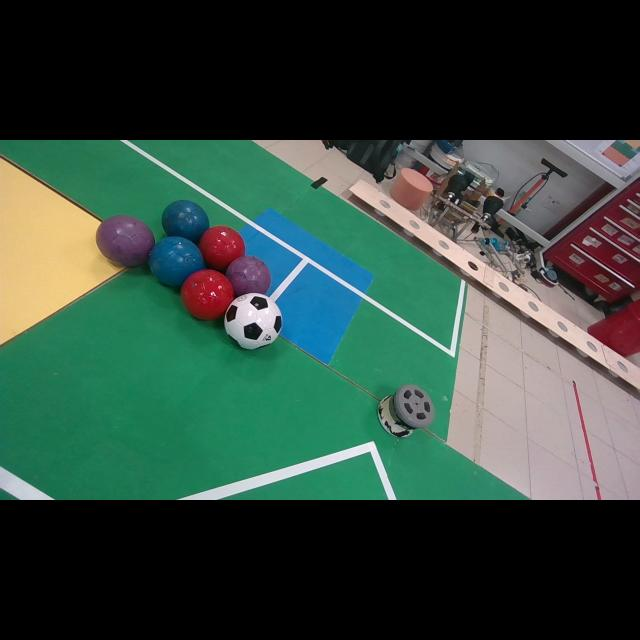B: (149, 236, 205, 286), (161, 200, 210, 244)
P: (96, 215, 155, 266), (225, 256, 271, 296)
R: (181, 269, 234, 320), (198, 225, 245, 272)
